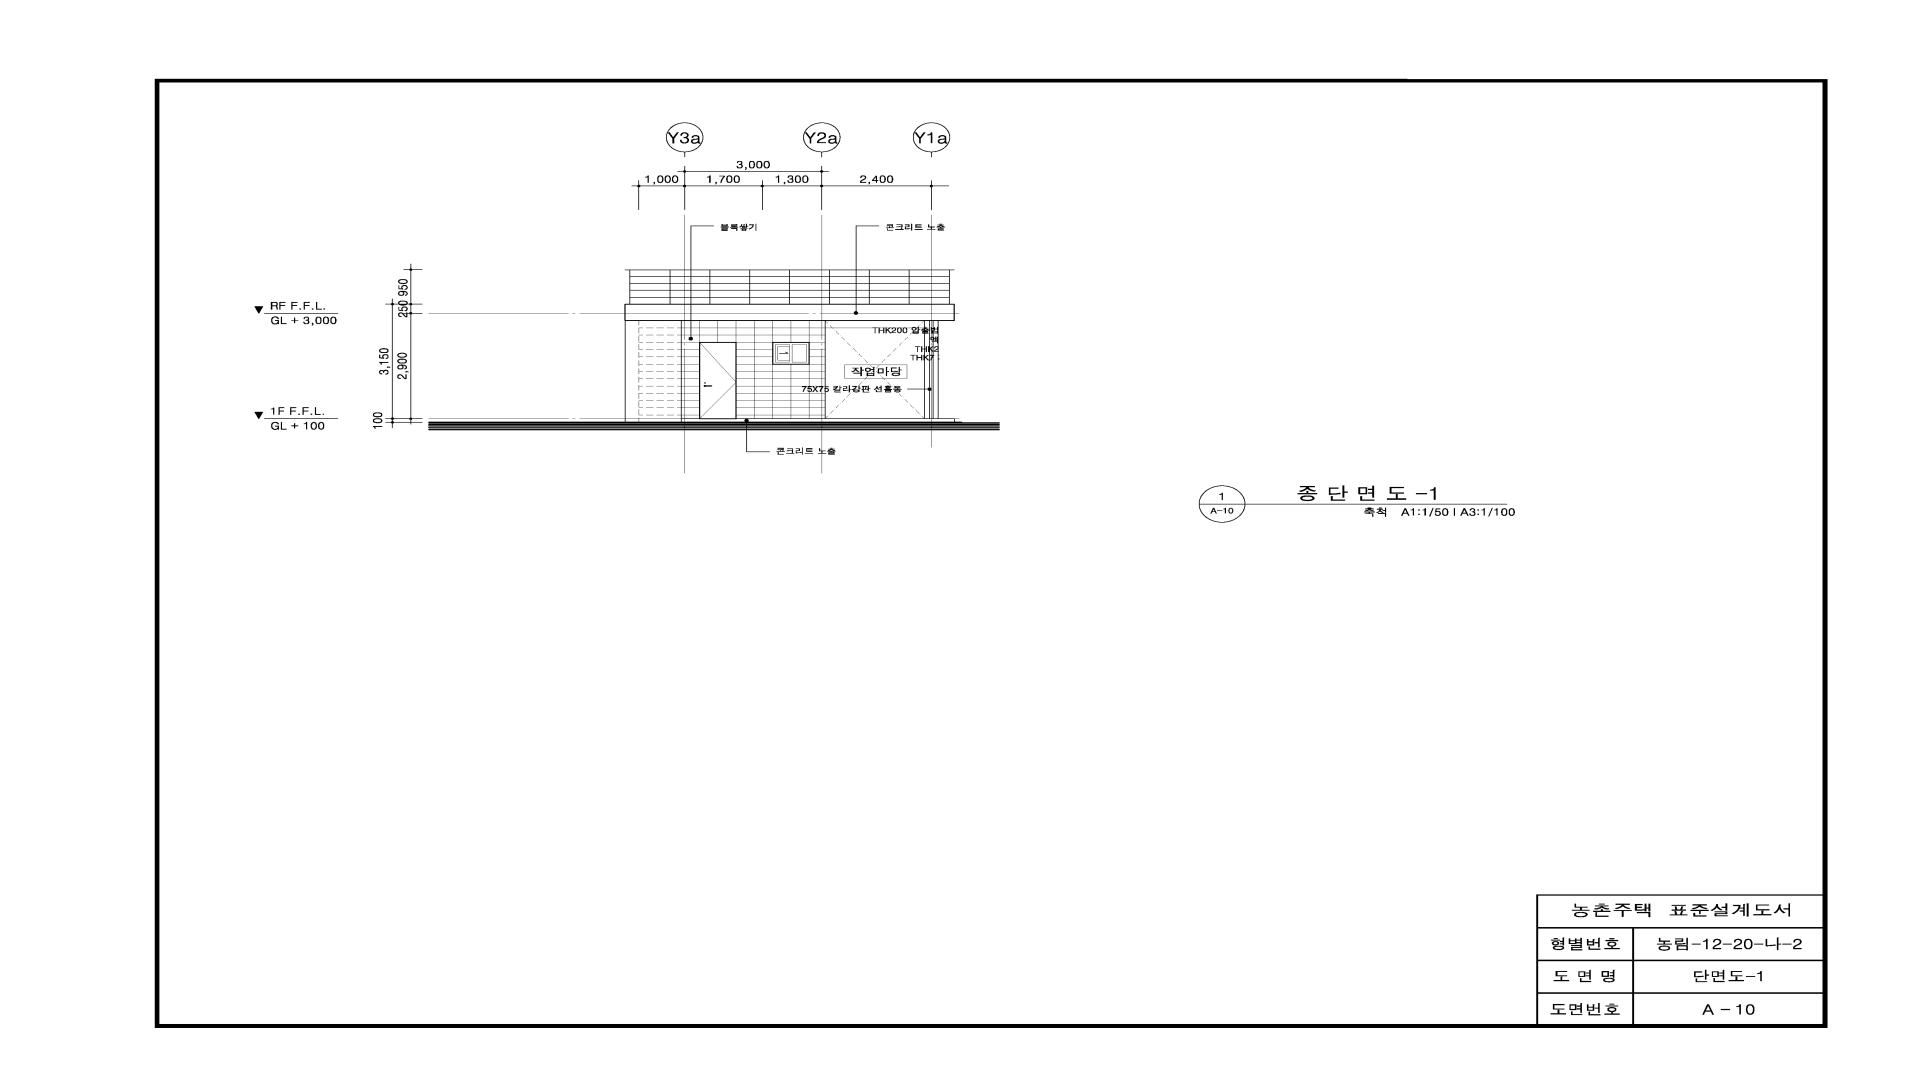door: (699, 342, 737, 419)
wall: (624, 320, 939, 419), (625, 303, 955, 320), (625, 418, 955, 422)
window: (773, 342, 810, 365)
